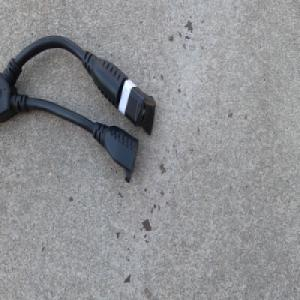Wire: (0, 35, 156, 184)
